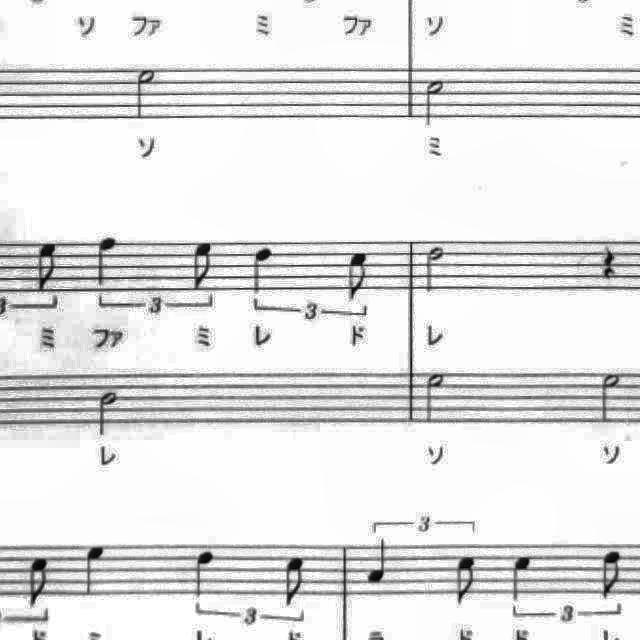Eighth-note: (447, 548, 485, 612), (21, 552, 59, 614), (595, 547, 633, 605), (186, 236, 222, 294), (30, 238, 66, 296), (342, 246, 376, 306), (278, 553, 312, 613)
Half-note: (592, 364, 630, 428), (420, 366, 456, 428), (418, 72, 454, 132), (130, 62, 164, 124), (418, 243, 450, 301), (92, 386, 125, 442)
Quarter-note: (77, 538, 115, 602), (188, 543, 224, 605), (245, 240, 282, 300), (89, 230, 125, 290), (504, 548, 540, 606), (362, 536, 396, 588)
Quarter-rest: (595, 240, 625, 288)
